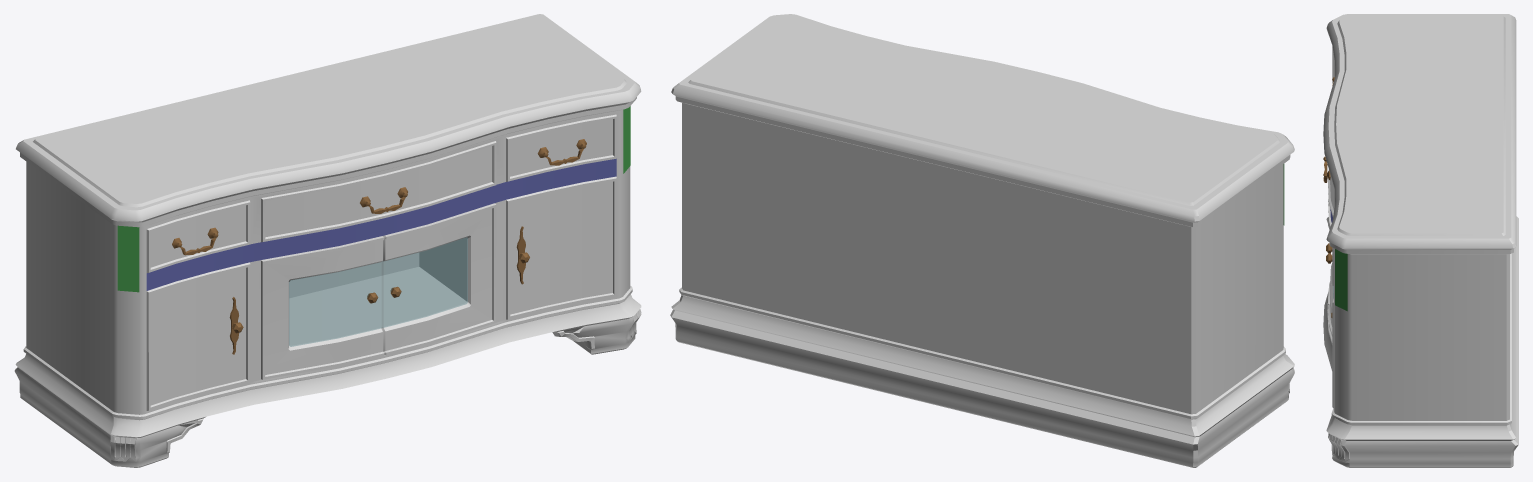
The model's file is MLD088.FBX.
3 renders of one model, left to right at view 1: azimuth 30°, elevation 25°; view 2: azimuth 150°, elevation 25°; view 3: azimuth 270°, elevation 25°, orthographic. The views are drawn at different scales.
Parts seen in each view (by area): view 1: MLD088; view 2: MLD088; view 3: MLD088.
Part boxes in pixels (x1=…): MLD088: x1=14, y1=14, x2=641, y2=467; MLD088: x1=670, y1=14, x2=1294, y2=467; MLD088: x1=1323, y1=14, x2=1518, y2=467.
Bounding box in the file's own units: 158 × 56.8 × 74.
